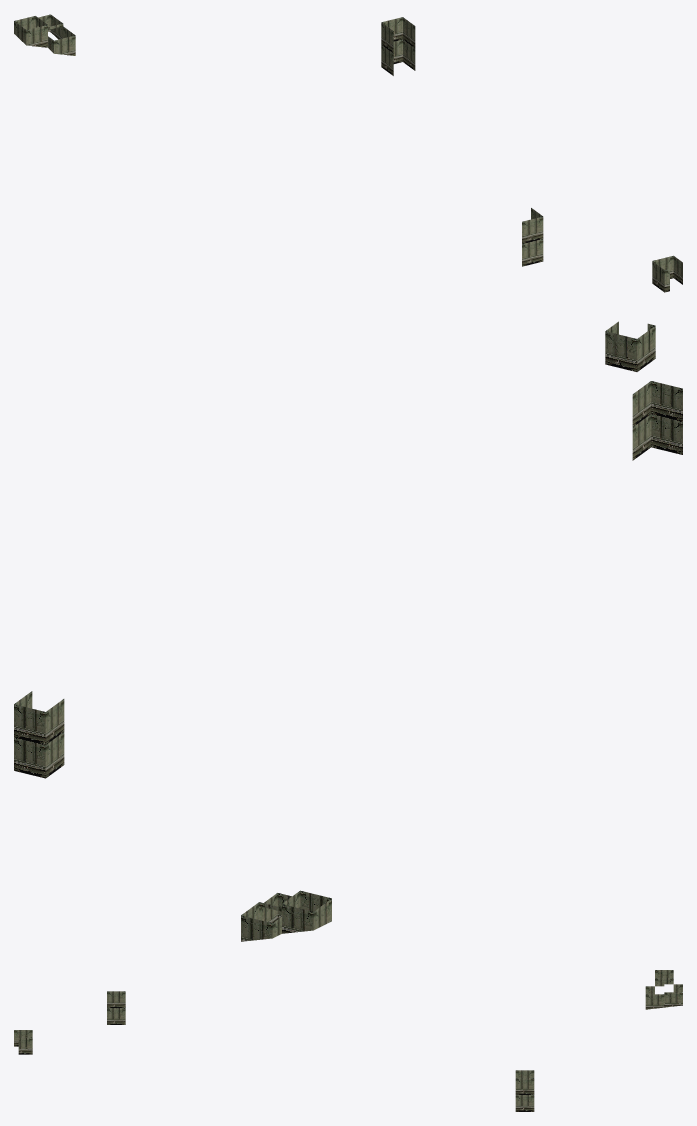
3 views of the same model, one above another, from view 1: azimuth 30°, elevation 25°; view 2: azimuth 150°, elevation 25°; view 3: azimuth 270°, elevation 25° (orthographic). The views are drawn at different scales.
Visible parts, largest first — view 1: Object_13; view 2: Object_13; view 3: Object_13.
Boxes of the visible parts, box(x1,y1,x2,y2) form: Object_13: box(14, 14, 682, 292); Object_13: box(14, 321, 682, 941); Object_13: box(14, 970, 682, 1111).
Bounding box in the file's own units: 11.73 × 3.41 × 30.72.
1 material, 1 textured.
